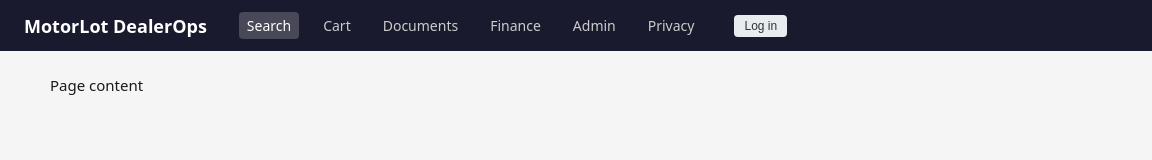
Test: Layout — unauthenticated state › clicking "Log in" reveals the login form
Click the button "Log in": (761, 26) x1=734 y1=15 x2=787 y2=37
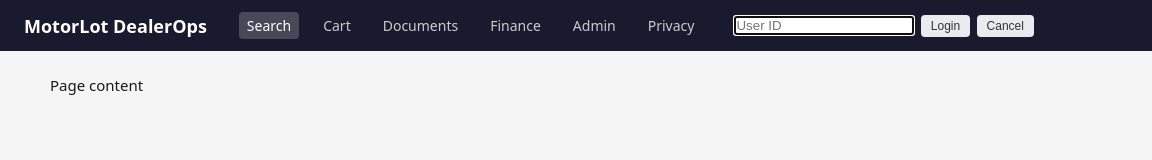
Now the field with placeholder "User ID" is shown, box x1=734 y1=16 x2=914 y2=35
Now the button "Login" is shown, box x1=921 y1=14 x2=970 y2=36
